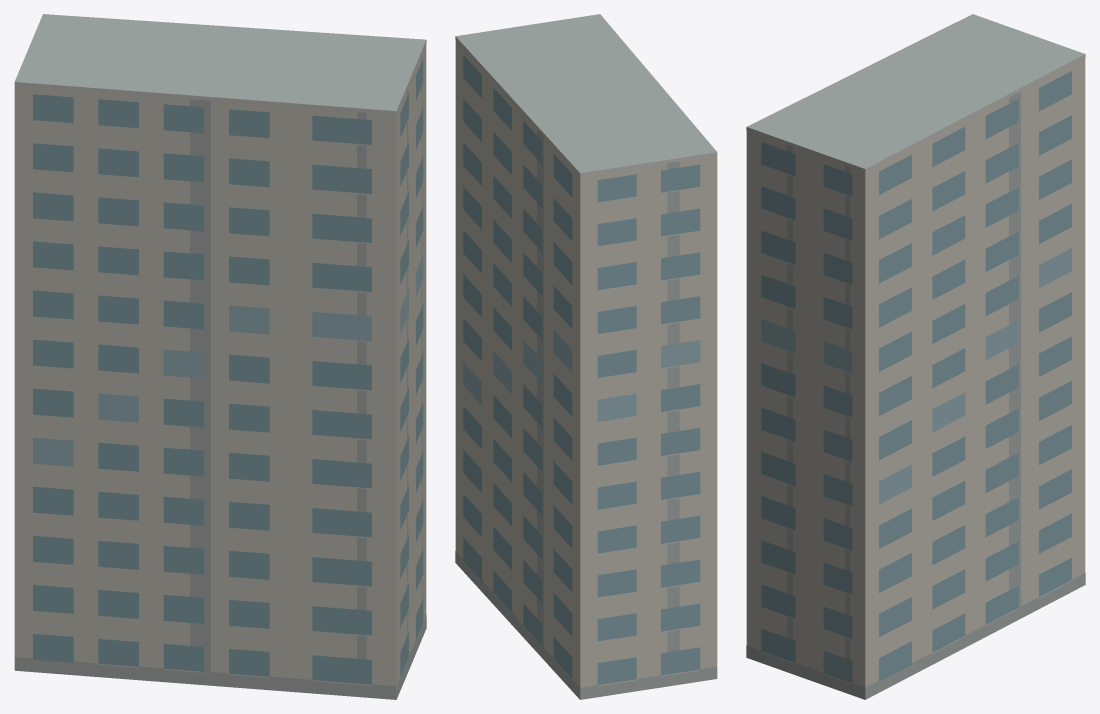
File: survey-upis-32623384.glb
3 renders of one model, left to right at view 1: azimuth 30°, elevation 25°; view 2: azimuth 150°, elevation 25°; view 3: azimuth 270°, elevation 25°, orthographic. The views are drawn at different scales.
Parts seen in each view (by area): view 1: survey-upis-32623384.tmp; view 2: survey-upis-32623384.tmp; view 3: survey-upis-32623384.tmp.
Part boxes in pixels (x1,y1,x2,y2): survey-upis-32623384.tmp: (14, 14, 426, 699); survey-upis-32623384.tmp: (455, 14, 717, 699); survey-upis-32623384.tmp: (746, 14, 1085, 699).
Bounding box in the file's own units: 22.93 × 36.6 × 21.19.
